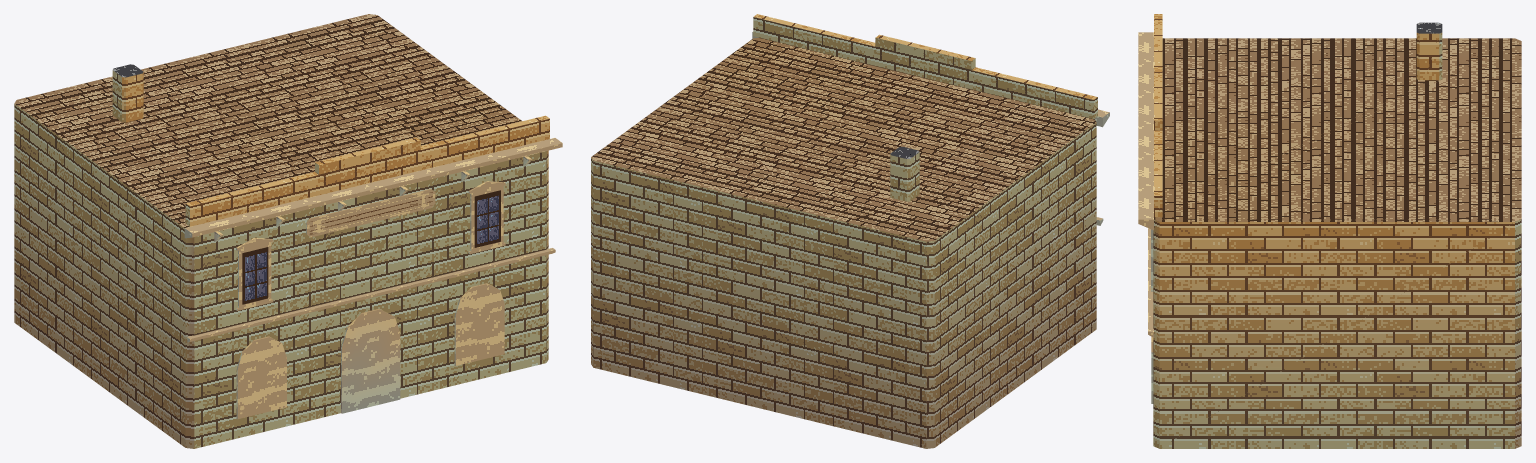
Rendered from wtown.bank__wide.glb.
The picture shows the model from 3 angles, left to right: view 1: azimuth 30°, elevation 25°; view 2: azimuth 150°, elevation 25°; view 3: azimuth 270°, elevation 25°; orthographic projection. The views are drawn at different scales.
Parts seen in each view (by area): view 1: kit_body, kit_trim, kit_windows, kit_card_panes, kit_chimney; view 2: kit_body, kit_trim, kit_chimney; view 3: kit_body, kit_trim, kit_chimney, kit_windows.
Boxes of the visible parts, bbox=[...] form: kit_body: bbox=[14, 14, 548, 448]; kit_trim: bbox=[184, 115, 562, 413]; kit_windows: bbox=[236, 181, 505, 419]; kit_card_panes: bbox=[242, 190, 500, 304]; kit_chimney: bbox=[112, 64, 143, 122]; kit_body: bbox=[591, 37, 1096, 448]; kit_trim: bbox=[752, 14, 1109, 225]; kit_chimney: bbox=[890, 146, 919, 201]; kit_body: bbox=[1153, 38, 1521, 448]; kit_trim: bbox=[1138, 14, 1162, 337]; kit_chimney: bbox=[1416, 22, 1442, 80]; kit_windows: bbox=[1151, 229, 1153, 403].
Bounding box in the file's own units: 12.04 × 8.2 × 10.4.
Materials: 7 (7 with a texture image).
